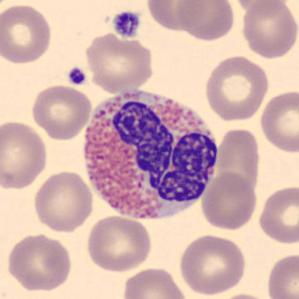Eosinophil: (75, 78, 225, 228)
Platelets: (110, 9, 142, 40), (66, 65, 88, 86)
RBC: (202, 53, 270, 123), (177, 232, 248, 297), (82, 30, 155, 93), (30, 168, 96, 233), (5, 231, 74, 292), (84, 214, 154, 274), (29, 82, 94, 141), (199, 170, 260, 231), (238, 0, 298, 60), (0, 119, 49, 191), (216, 125, 263, 199), (0, 2, 54, 66), (257, 88, 298, 155), (175, 0, 238, 43), (256, 183, 298, 245), (121, 265, 191, 299), (145, 0, 208, 32), (264, 251, 298, 299), (231, 0, 287, 14), (212, 291, 273, 299), (0, 0, 14, 11)
